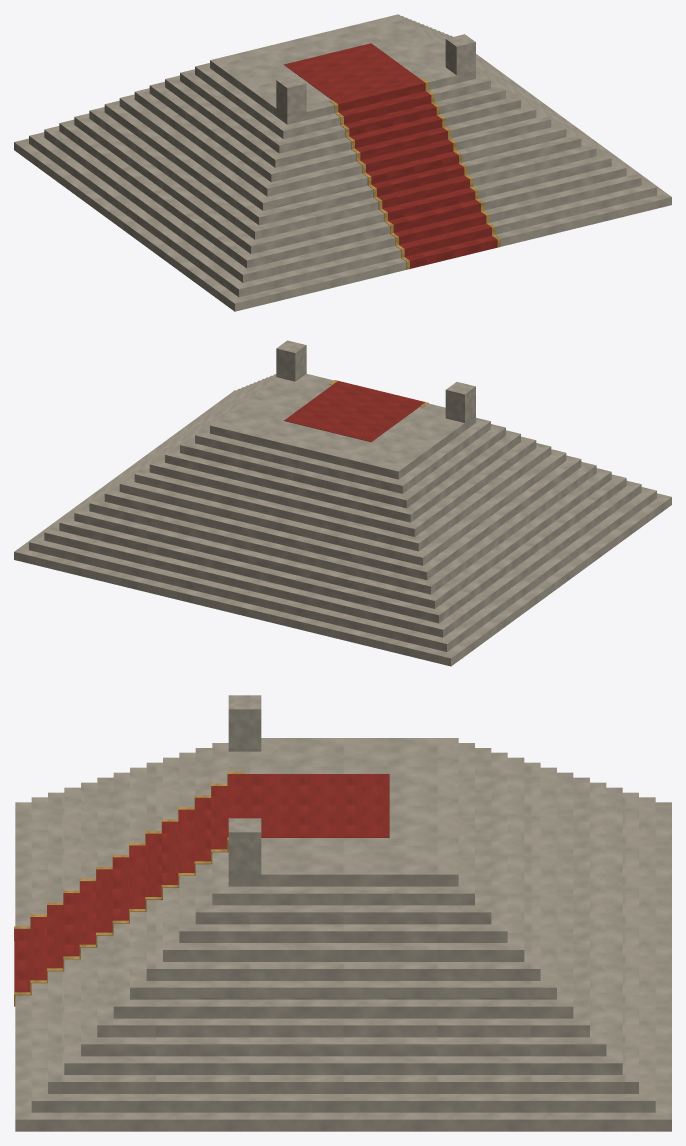
The model's file is Throne_Dais_Imperial_1_LOD1.gltf.
The picture shows the model from 3 angles, top to bottom: view 1: azimuth 30°, elevation 25°; view 2: azimuth 150°, elevation 25°; view 3: azimuth 270°, elevation 25°; orthographic projection. The views are drawn at different scales.
Parts seen in each view (by area): view 1: Throne_Dais_Imperial_1_LOD1; view 2: Throne_Dais_Imperial_1_LOD1; view 3: Throne_Dais_Imperial_1_LOD1.
Part boxes in pixels (<box>): Throne_Dais_Imperial_1_LOD1: <box>14,14,671,311</box>; Throne_Dais_Imperial_1_LOD1: <box>14,340,671,666</box>; Throne_Dais_Imperial_1_LOD1: <box>14,695,671,1131</box>.
Size of the model in its own units: 16 by 4.92 by 14.02.
Materials: 3 (3 with a texture image).
